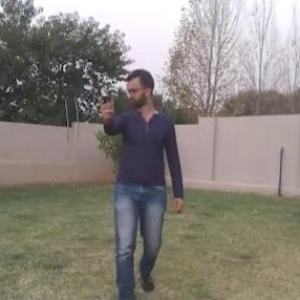takeoff-hand: (90, 87, 116, 127)
